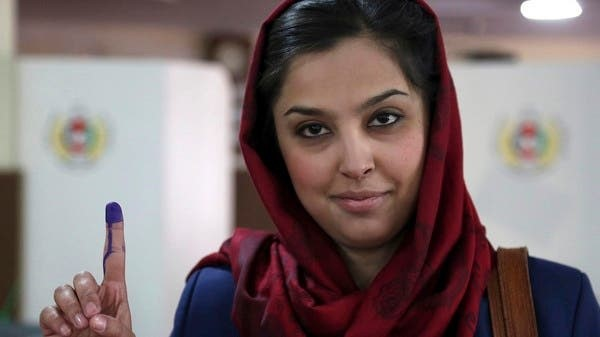face_no_mask: (262, 16, 435, 242)
